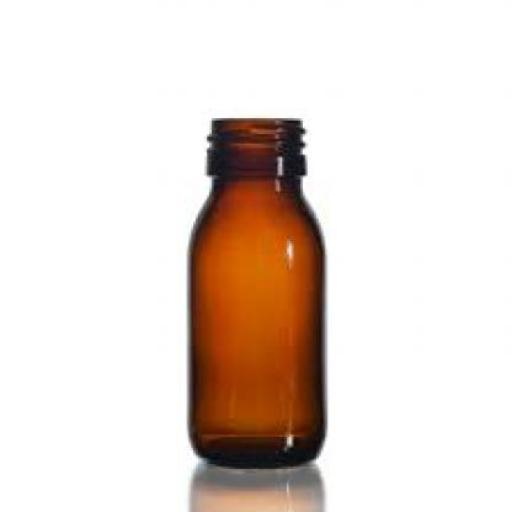glass: (191, 116, 328, 468)
